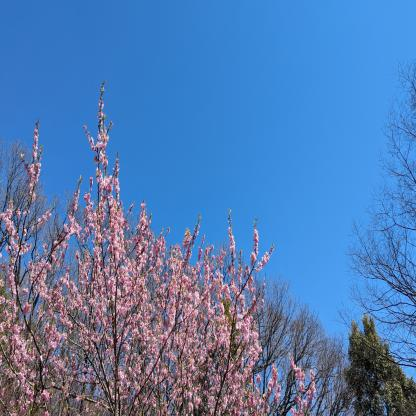Ume: (0, 77, 320, 416)
